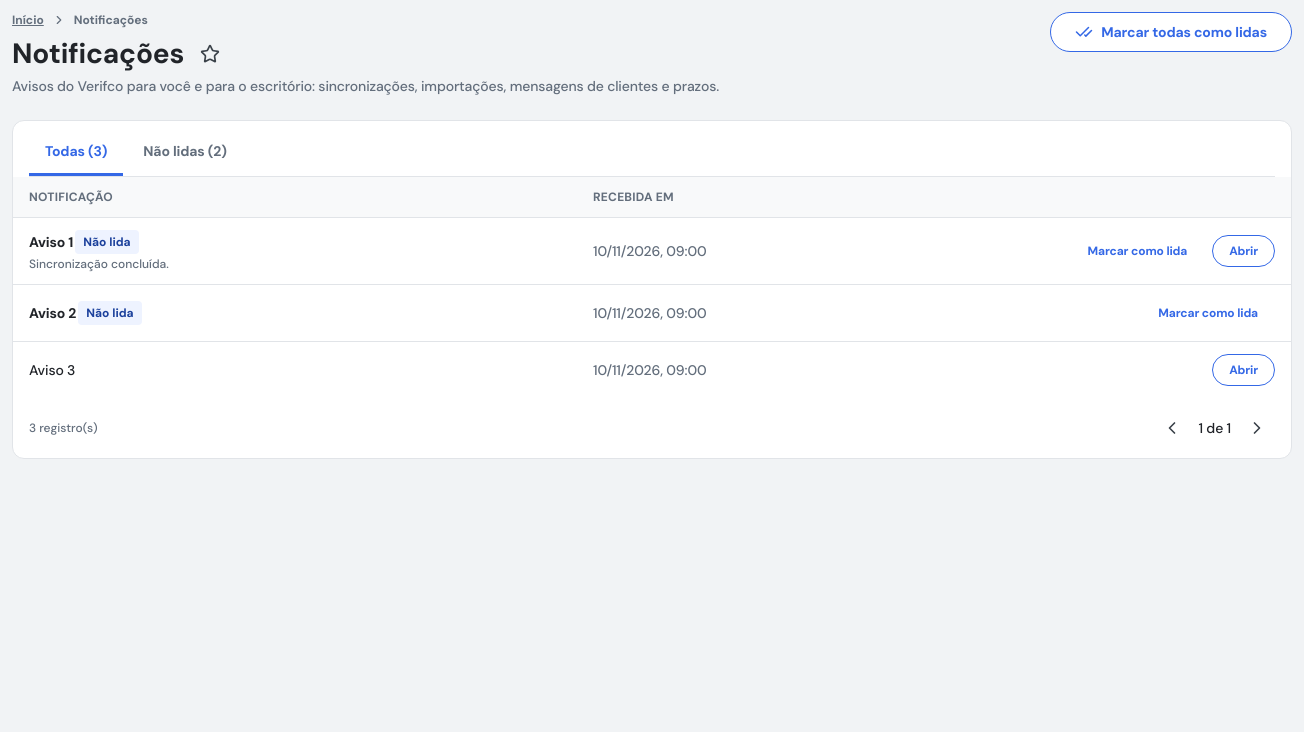
Test case: página de notificações › marca uma como lida, todas como lidas e abre o destino da notificação
Click the button with aria-label "Marcar como lida: Aviso 2" at (1208, 313), box [1141,297,1275,329]
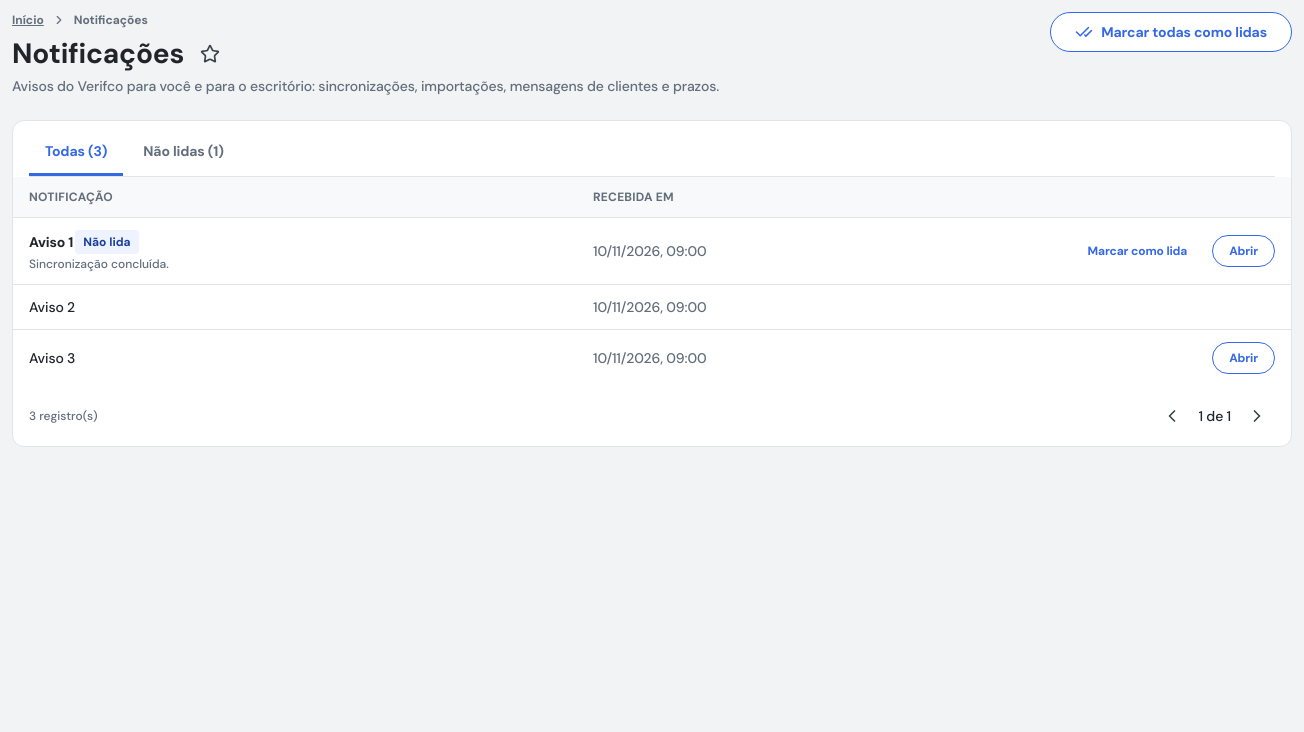
expect the tab "Não lidas (1)" is shown: met, box [127,129,240,176]
Click the button "Marcar todas como lidas" at (1171, 32), box [1050,12,1292,52]
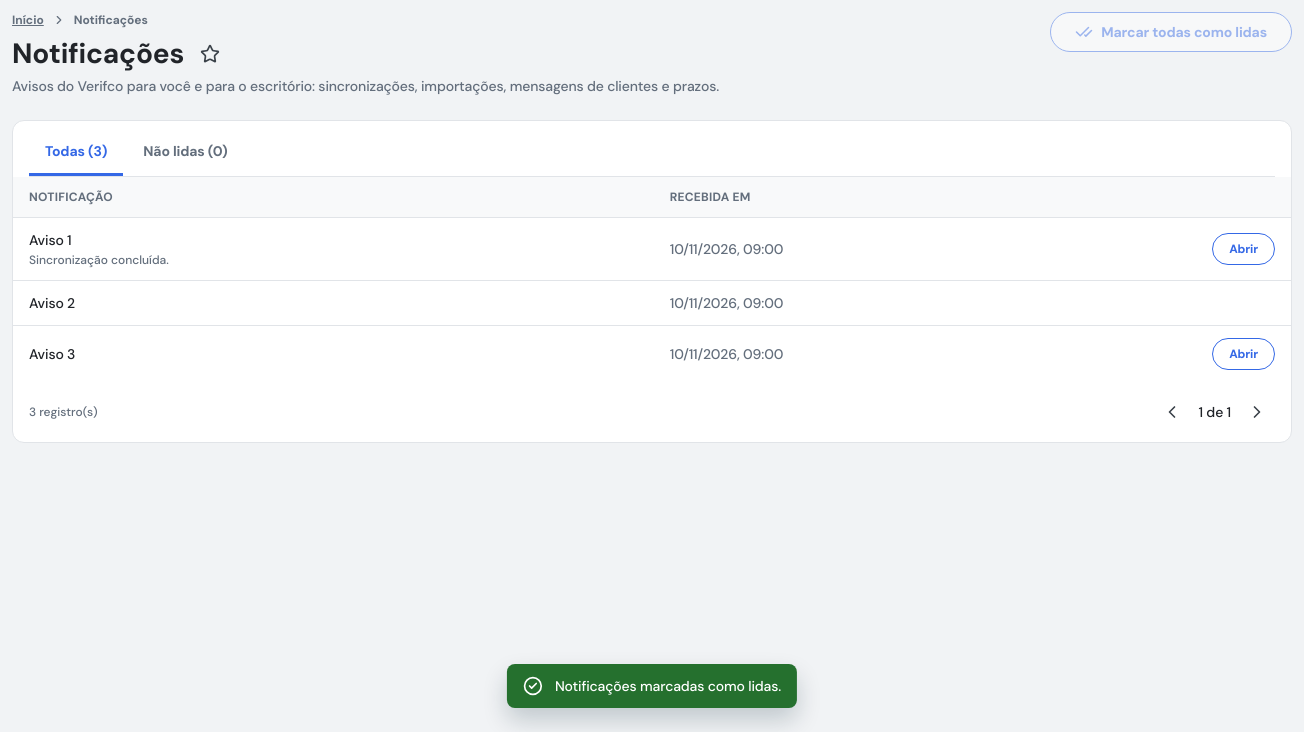
expect the tab "Não lidas (0)" is shown: met, box [127,129,244,176]
expect the button "Marcar todas como lidas" is disabled: met, box [1050,12,1292,52]
Click the button with aria-label "Abrir: Aviso 3" at (1244, 354), box [1212,338,1275,370]
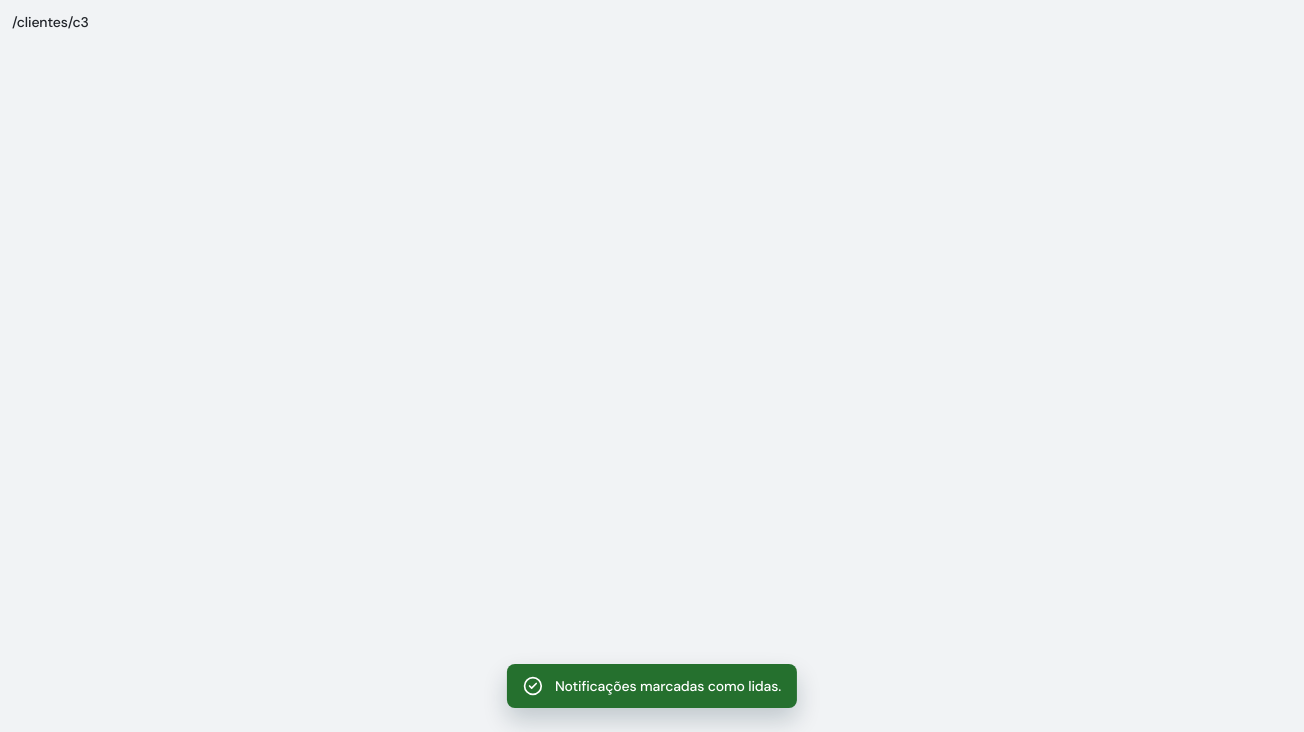
expect the text with test id "where" reads "/clientes/c3": met, box [12,13,89,31]
